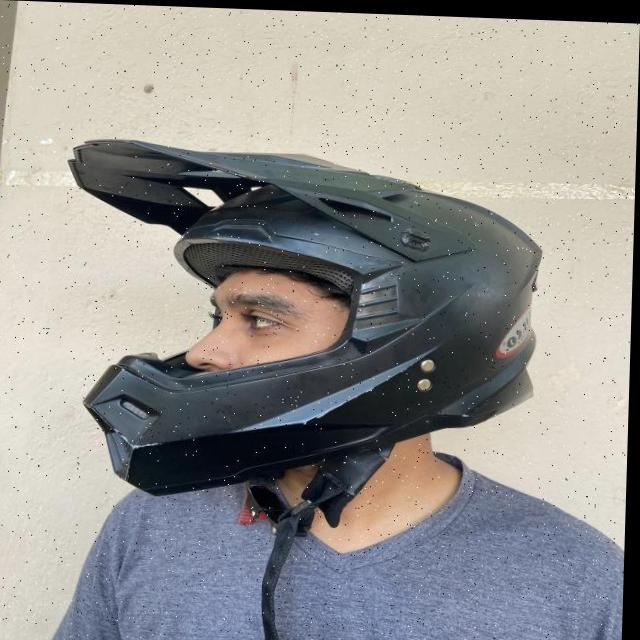helmet: (61, 132, 546, 640)
